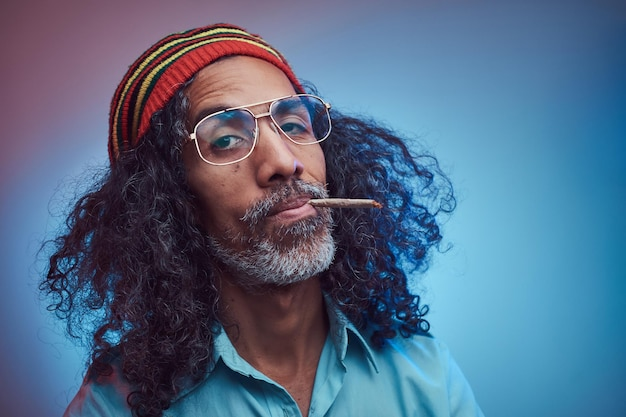cigarette: (311, 196, 383, 211)
